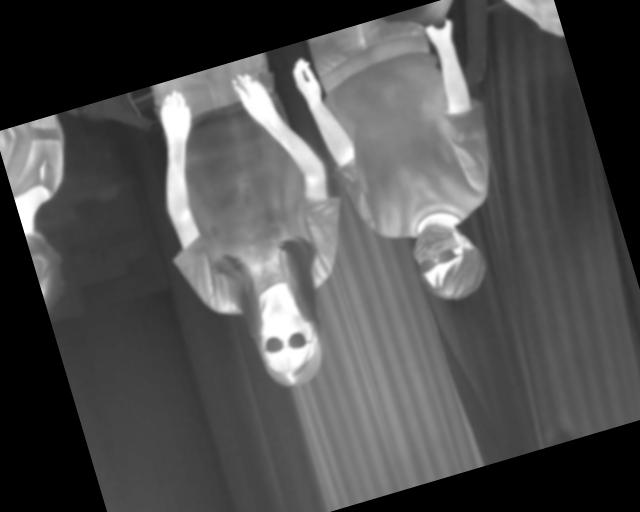face: (406, 211, 491, 308), (248, 298, 330, 394)
